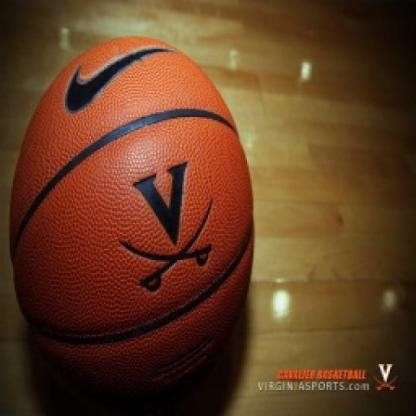basketball: (7, 31, 260, 410)
